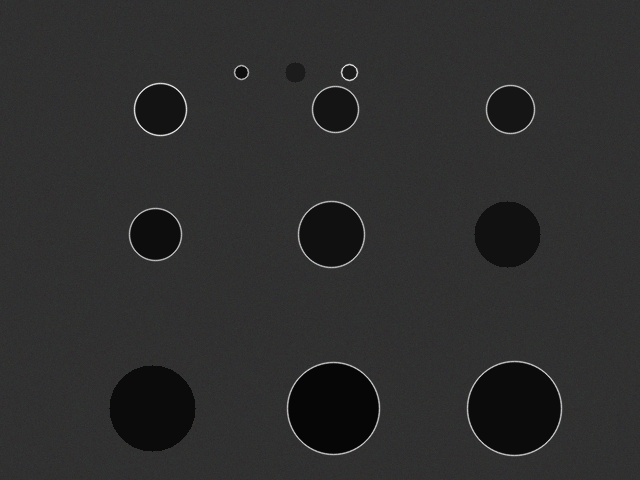hole: (467, 361, 561, 455), (287, 362, 379, 454), (109, 365, 195, 451), (298, 201, 364, 267), (474, 201, 540, 267), (134, 83, 186, 135), (129, 208, 181, 260), (486, 85, 534, 133), (312, 86, 358, 132), (285, 62, 305, 82), (341, 64, 357, 80), (234, 65, 248, 79)
